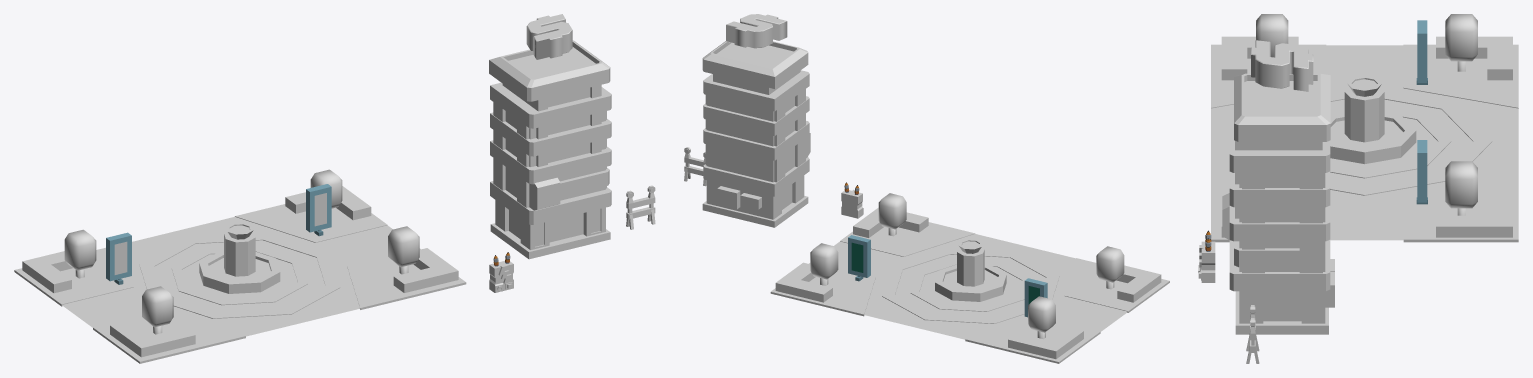
File: new_assets_bank_etc.fbx
3 views of the same model, side by side, from view 1: azimuth 30°, elevation 25°; view 2: azimuth 150°, elevation 25°; view 3: azimuth 270°, elevation 25° (orthographic). The views are drawn at different scales.
Parts seen in each view (by area): view 1: park_new, bank_new, dollar_mark, park_screens, road_props_new, charger_new; view 2: park_new, bank_new, dollar_mark, charger_new, road_props_new; view 3: park_new, bank_new, dollar_mark, charger_new, road_props_new.
Boxes of the visible parts, x1,y1,x2,y2 form: park_new: (14,169,466,363); bank_new: (489,40,611,259); dollar_mark: (526,14,572,59); park_screens: (114,193,326,274); road_props_new: (626,185,655,229); charger_new: (489,252,513,292); park_new: (770,193,1169,363); bank_new: (702,41,810,227); dollar_mark: (726,14,787,48); charger_new: (841,182,863,218); road_props_new: (684,147,706,186); park_new: (1211,14,1518,242); bank_new: (1222,73,1334,334); dollar_mark: (1251,40,1313,91); charger_new: (1198,230,1215,282); road_props_new: (1246,305,1259,363).
Size of the model in its own units: 1955 by 775 by 834.
